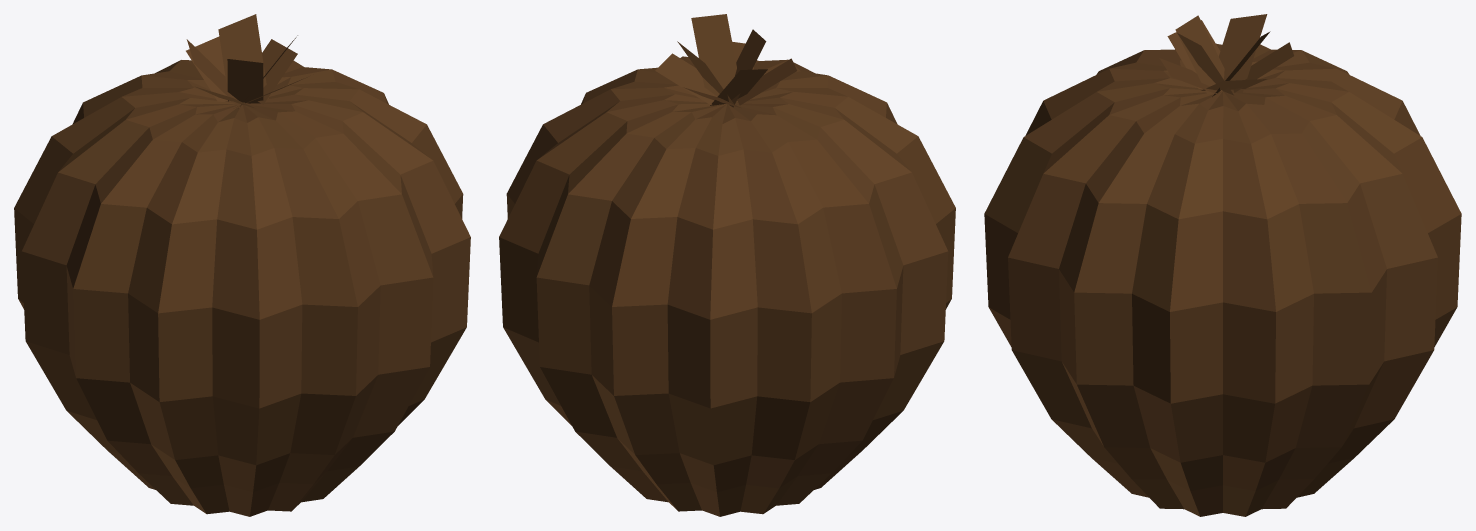
File: SM_Succulent_Cactus_Round_Flowering_C.fbx
The picture shows the model from 3 angles, left to right: view 1: azimuth 30°, elevation 25°; view 2: azimuth 150°, elevation 25°; view 3: azimuth 270°, elevation 25°; orthographic projection. The views are drawn at different scales.
Parts seen in each view (by area): view 1: succulent-cactus-round-flowering-c; view 2: succulent-cactus-round-flowering-c; view 3: succulent-cactus-round-flowering-c.
Part boxes in pixels (bbox=[...]): succulent-cactus-round-flowering-c: bbox=[14, 14, 470, 516]; succulent-cactus-round-flowering-c: bbox=[499, 14, 955, 516]; succulent-cactus-round-flowering-c: bbox=[984, 14, 1461, 516].
Bounding box in the file's own units: 0.6319 × 0.6818 × 0.6482.
